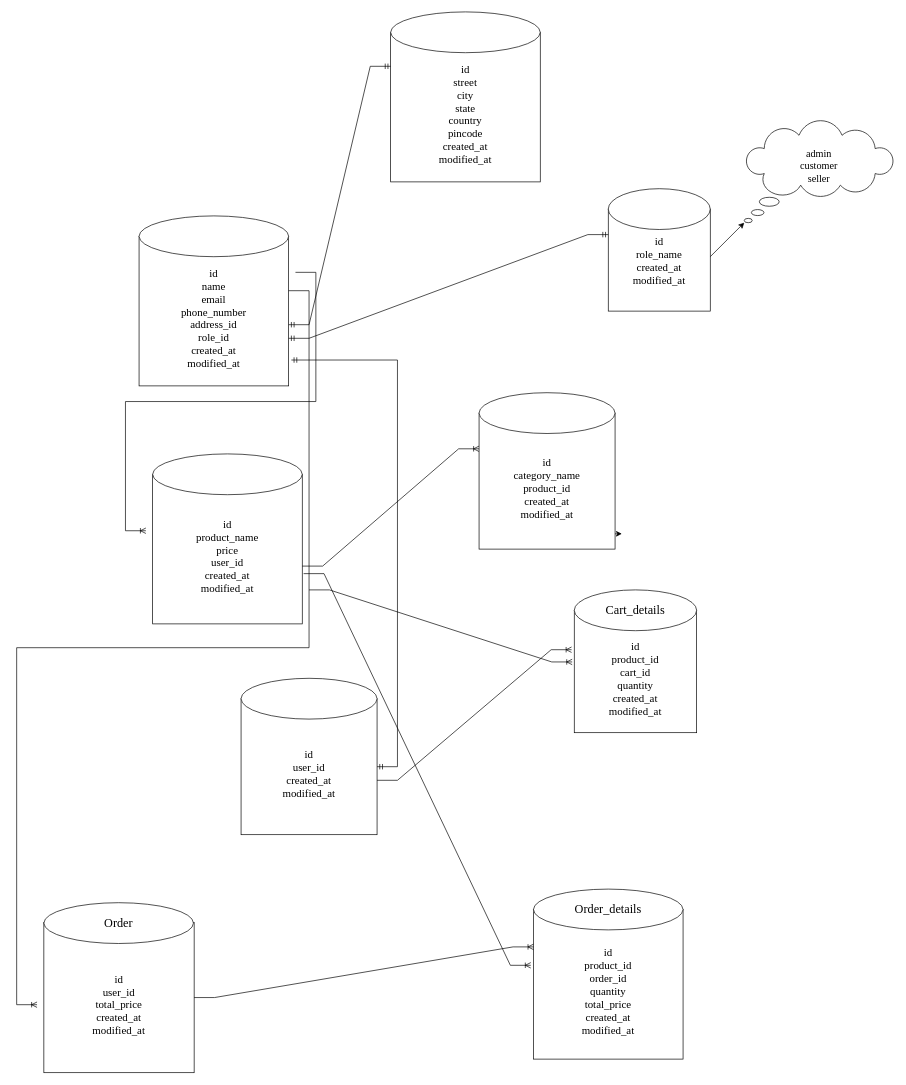
Image size: 906x1085. Some labels were removed from this diagram. Each missing label, with the centre of its shape:
Address: point 465,32
Cart: point 308,698
Category: point 546,413
Product: point 227,474
Role: point 659,209
USER: point 213,236
